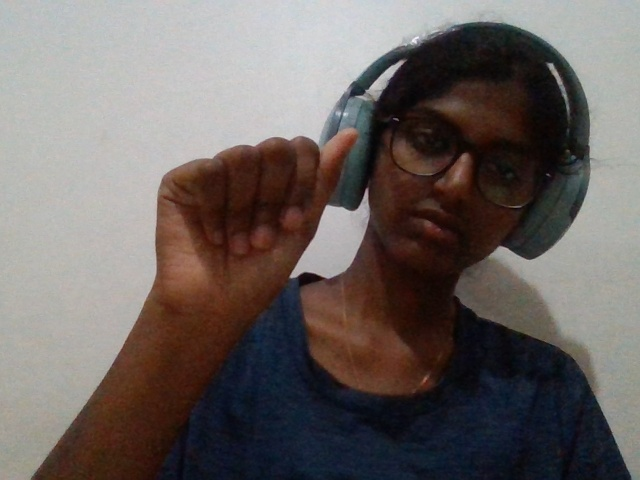A: (119, 114, 393, 373)
